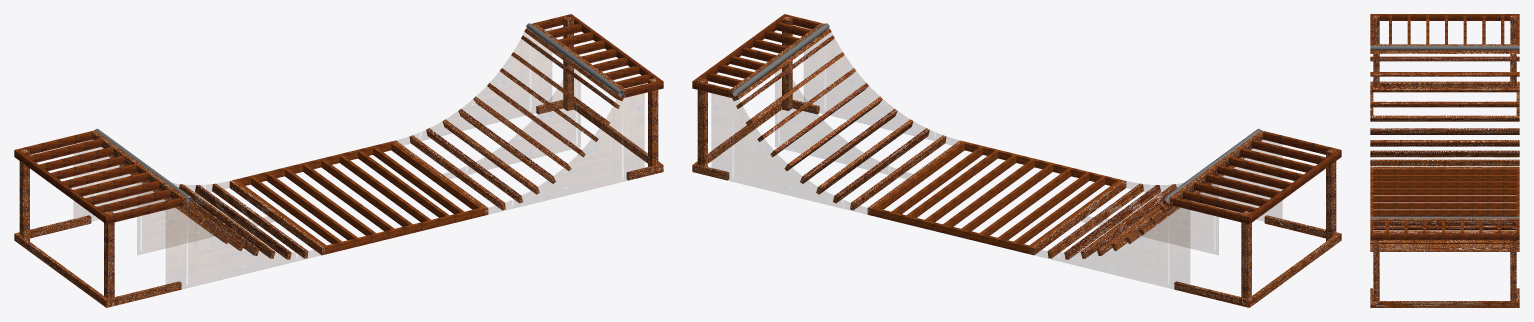
The picture shows the model from 3 angles, left to right: view 1: azimuth 30°, elevation 25°; view 2: azimuth 150°, elevation 25°; view 3: azimuth 270°, elevation 25°; orthographic projection. The views are drawn at different scales.
Parts seen in each view (by area): view 1: mesh9_mesh9-geometry, mesh3_mesh3-geometry, mesh2_mesh2-geometry, mesh1_mesh1-geometry, mesh15_mesh15-geometry; view 2: mesh9_mesh9-geometry, mesh3_mesh3-geometry, mesh2_mesh2-geometry, mesh1_mesh1-geometry, mesh15_mesh15-geometry; view 3: mesh3_mesh3-geometry, mesh2_mesh2-geometry, mesh9_mesh9-geometry, mesh15_mesh15-geometry, mesh1_mesh1-geometry.
Part boxes in pixels (x1,y1,x2,y2): mesh9_mesh9-geometry: (393, 23, 644, 215); mesh3_mesh3-geometry: (73, 128, 325, 288); mesh2_mesh2-geometry: (233, 141, 484, 254); mesh1_mesh1-geometry: (14, 131, 182, 307); mesh15_mesh15-geometry: (535, 14, 663, 180); mesh9_mesh9-geometry: (711, 23, 962, 215); mesh3_mesh3-geometry: (1030, 128, 1282, 292); mesh2_mesh2-geometry: (871, 141, 1122, 254); mesh1_mesh1-geometry: (1173, 131, 1341, 307); mesh15_mesh15-geometry: (692, 14, 820, 180); mesh3_mesh3-geometry: (1370, 44, 1519, 168); mesh2_mesh2-geometry: (1370, 168, 1519, 230); mesh9_mesh9-geometry: (1370, 216, 1519, 251); mesh15_mesh15-geometry: (1370, 220, 1519, 307); mesh1_mesh1-geometry: (1370, 14, 1519, 115).
Bounding box in the file's own units: 0.9505 × 0.1492 × 0.2724.
